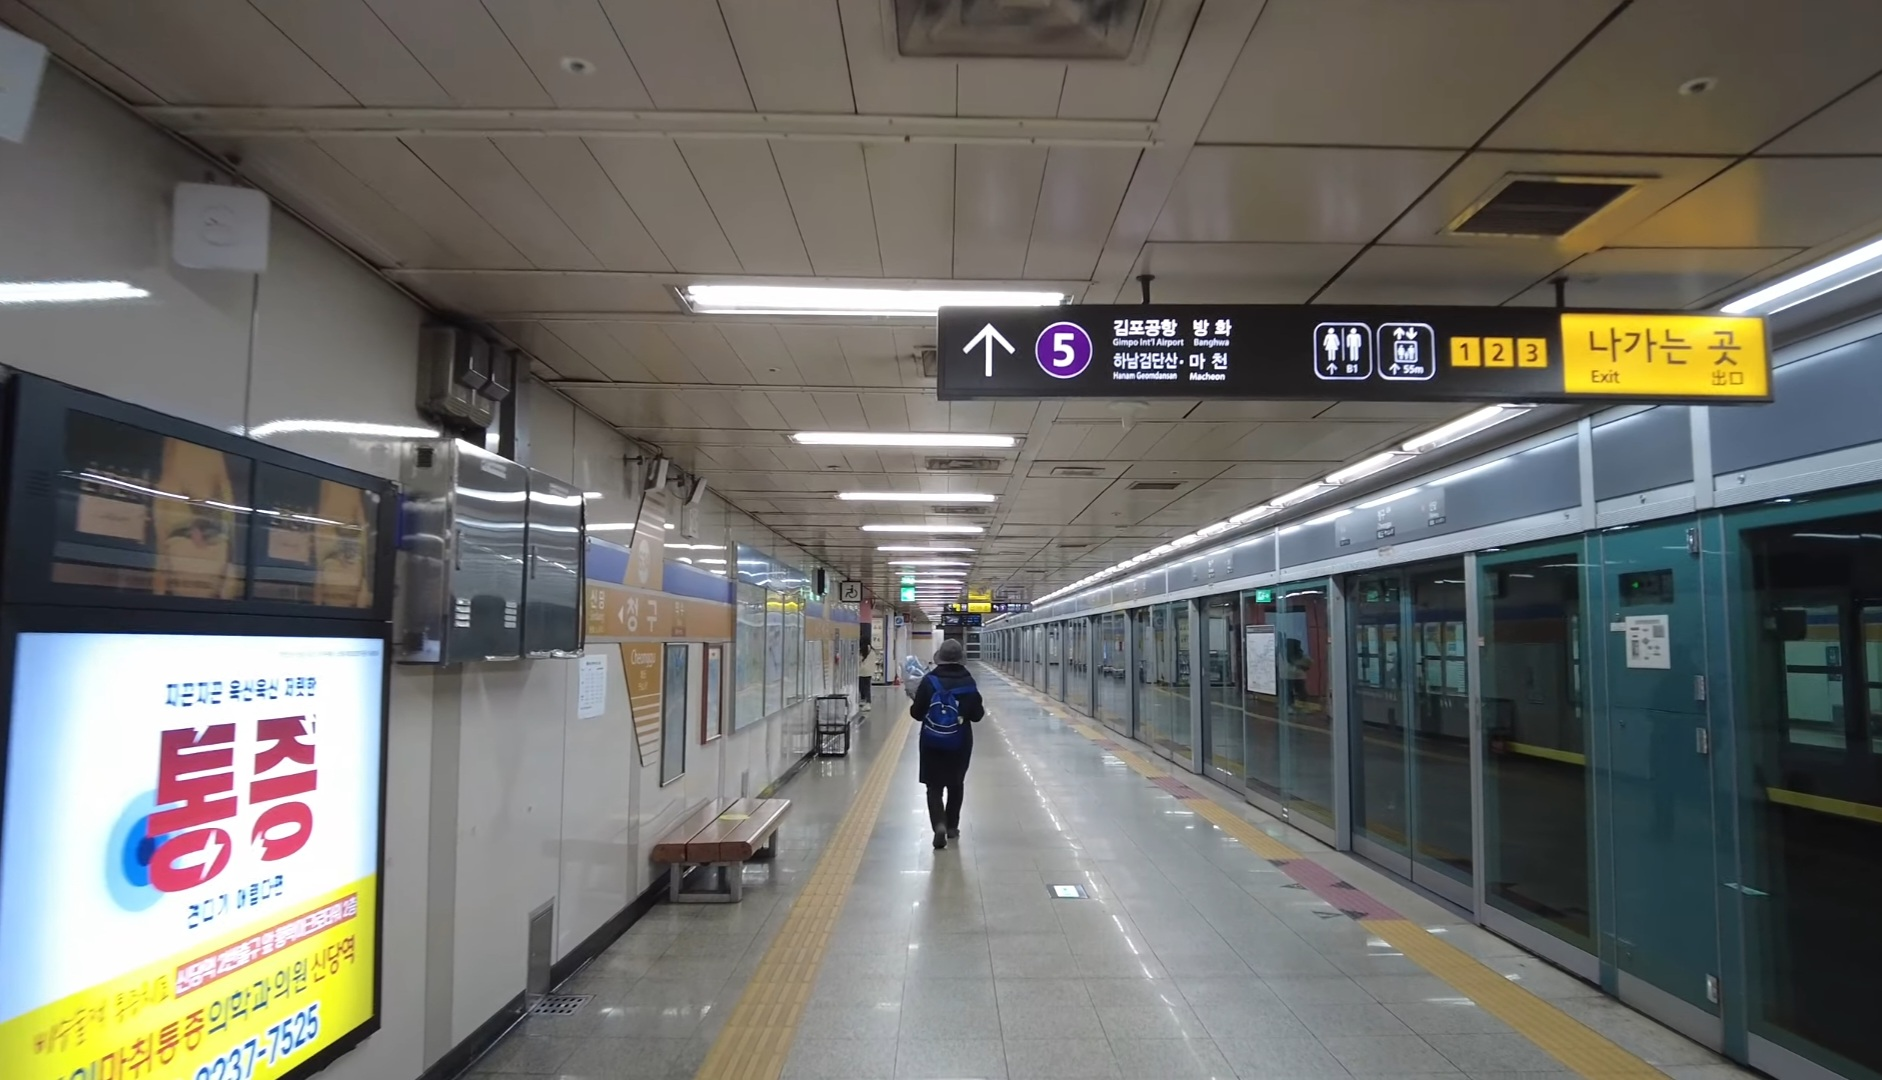signBoard: (927, 296, 1779, 415)
